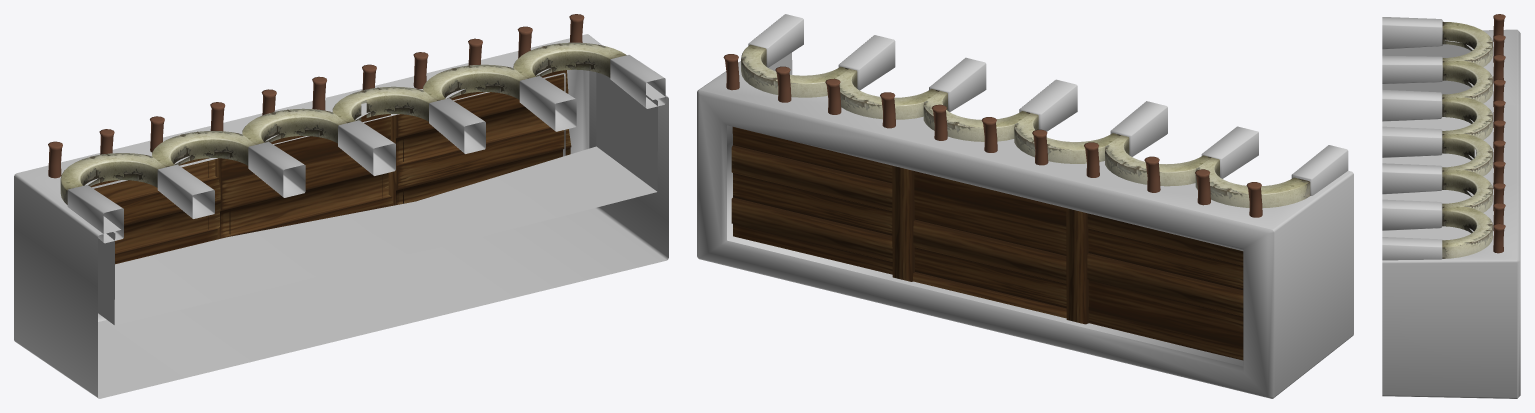
File: Bandito_building2.FBX
3 renders of one model, left to right at view 1: azimuth 30°, elevation 25°; view 2: azimuth 150°, elevation 25°; view 3: azimuth 270°, elevation 25°, orthographic. The views are drawn at different scales.
Parts seen in each view (by area): view 1: Building2, Building2_Roof, Building2_front, Building2_wood, Building2_wall_3, Building2_wall_4, Building2_wall_6, Building2_wall_5, Building2_wall_2, Building2_wall_1, Building2_wall_7; view 2: Building2, Building2_Roof, Building2_front, Building2_wood, Building2_wall_3, Building2_wall_4, Building2_wall_6, Building2_wall_5, Building2_wall_2, Building2_wall_7, Building2_wall_1; view 3: Building2, Building2_front, Building2_wood, Building2_wall_1, Building2_wall_3, Building2_wall_4, Building2_wall_6, Building2_wall_5, Building2_wall_2, Building2_wall_7.
Boxes of the visible parts, x1=… form: Building2: x1=14, y1=34, x2=668, y2=398; Building2_Roof: x1=90, y1=70, x2=571, y2=264; Building2_front: x1=60, y1=42, x2=626, y2=204; Building2_wood: x1=48, y1=14, x2=584, y2=178; Building2_wall_3: x1=248, y1=142, x2=305, y2=197; Building2_wall_4: x1=338, y1=120, x2=395, y2=175; Building2_wall_6: x1=519, y1=76, x2=576, y2=131; Building2_wall_5: x1=429, y1=98, x2=485, y2=153; Building2_wall_2: x1=157, y1=164, x2=214, y2=218; Building2_wall_1: x1=67, y1=185, x2=123, y2=243; Building2_wall_7: x1=610, y1=55, x2=665, y2=108; Building2: x1=697, y1=52, x2=1353, y2=398; Building2_Roof: x1=731, y1=127, x2=1243, y2=360; Building2_front: x1=741, y1=44, x2=1310, y2=208; Building2_wood: x1=723, y1=54, x2=1262, y2=217; Building2_wall_3: x1=1110, y1=101, x2=1167, y2=156; Building2_wall_4: x1=1019, y1=79, x2=1077, y2=131; Building2_wall_6: x1=838, y1=35, x2=895, y2=90; Building2_wall_5: x1=929, y1=57, x2=986, y2=111; Building2_wall_2: x1=1201, y1=126, x2=1258, y2=178; Building2_wall_7: x1=748, y1=14, x2=803, y2=67; Building2_wall_1: x1=1291, y1=145, x2=1348, y2=195; Building2: x1=1382, y1=29, x2=1520, y2=398; Building2_front: x1=1442, y1=21, x2=1492, y2=258; Building2_wood: x1=1493, y1=14, x2=1505, y2=253; Building2_wall_1: x1=1382, y1=17, x2=1442, y2=49; Building2_wall_3: x1=1382, y1=89, x2=1442, y2=121; Building2_wall_4: x1=1382, y1=126, x2=1442, y2=157; Building2_wall_6: x1=1382, y1=199, x2=1442, y2=230; Building2_wall_5: x1=1382, y1=163, x2=1442, y2=194; Building2_wall_2: x1=1382, y1=55, x2=1442, y2=84; Building2_wall_7: x1=1382, y1=237, x2=1442, y2=260.
Bounding box in the file's own units: 18.27 × 6.04 × 4.6.
